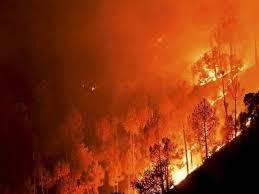fire: (167, 142, 200, 185)
